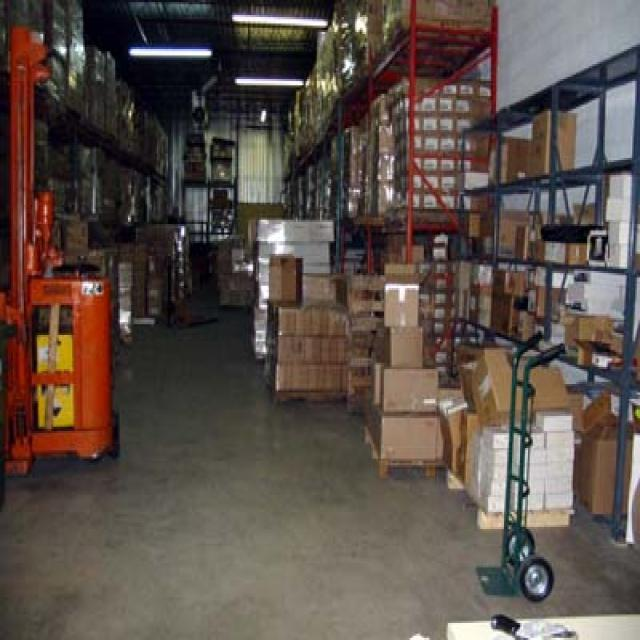hand trolley: (474, 329, 562, 599)
wall clock: (290, 0, 637, 533), (166, 109, 288, 250)
